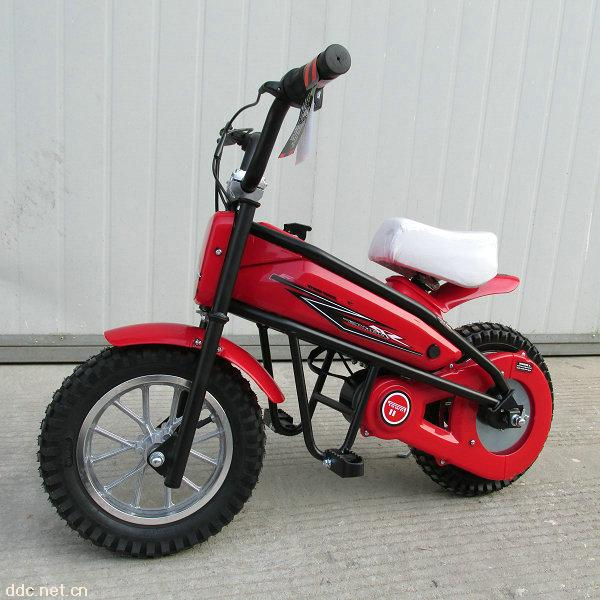MNV: (37, 46, 554, 559)
